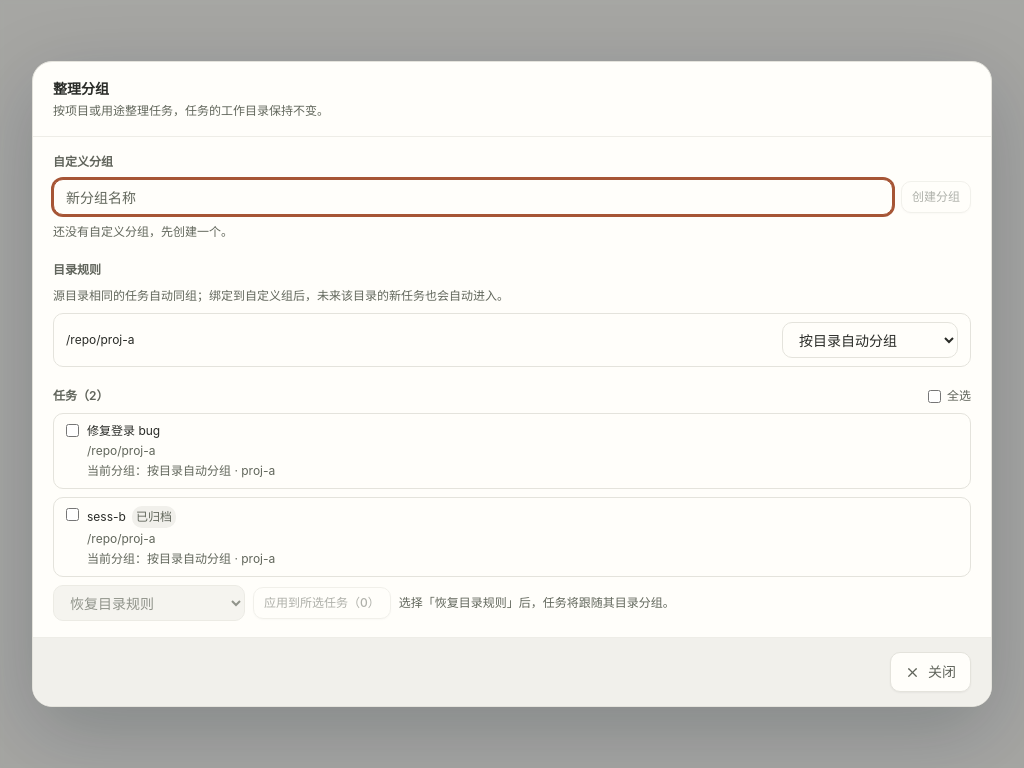
Test: WorkspaceGroupsModal 失败与加载态 › 写操作失败显示错误 Banner，且不关闭弹窗
The width and height of the screenshot is (1024, 768).
In the field labelled "新分组名称": (473, 197) [53,179,893,215], type "前端组"
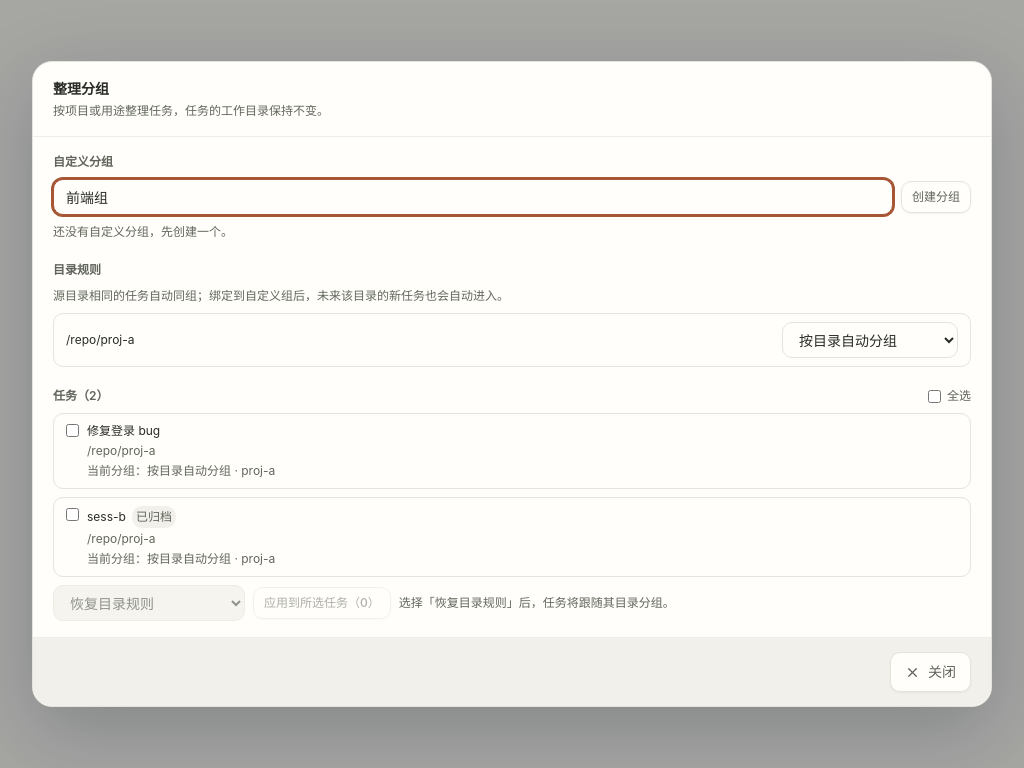
Click the button "创建分组": (936, 197) [901,181,971,213]
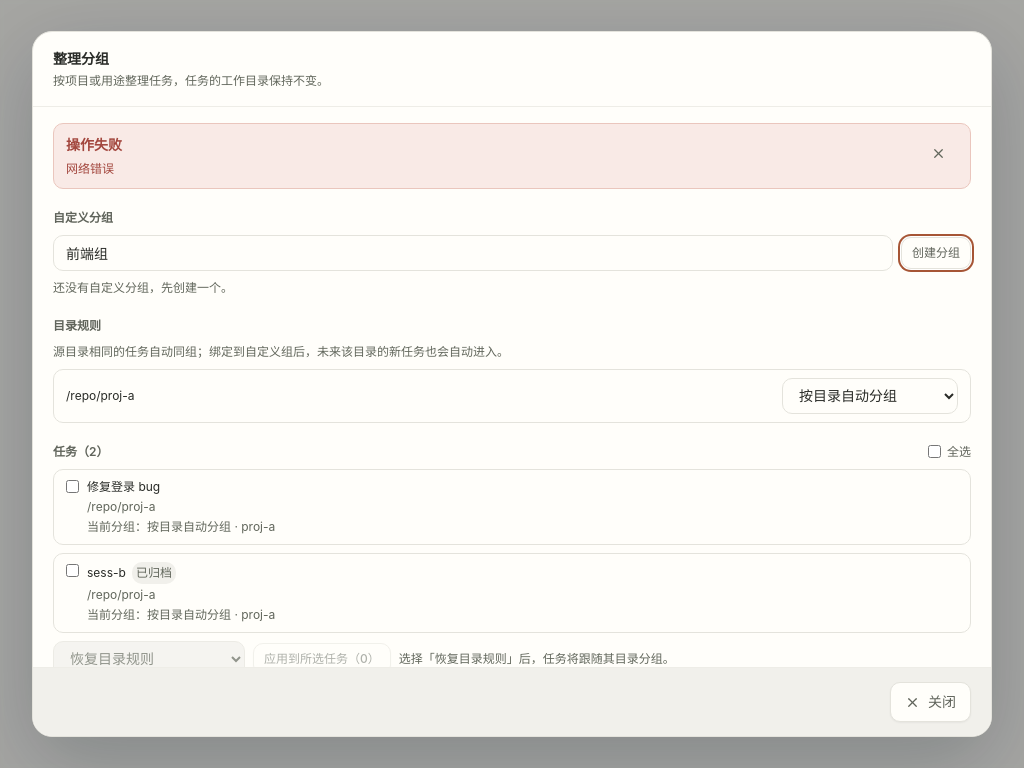
Expected: the text "网络错误" is shown, [66,161,114,176]
